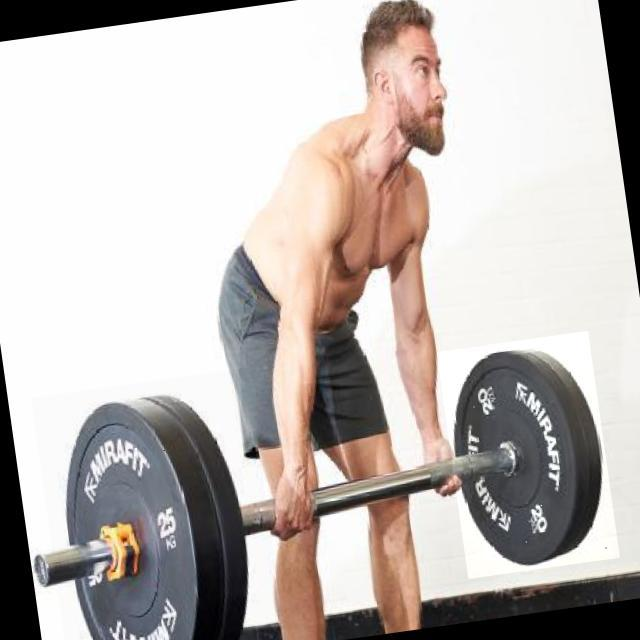barbell: (32, 368, 288, 640), (438, 332, 621, 580)
